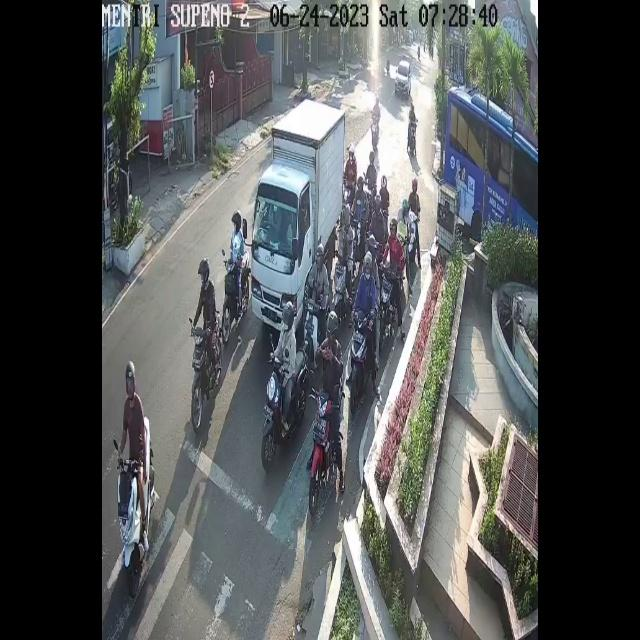bus: (118, 417, 156, 602), (263, 345, 306, 467), (190, 309, 221, 436), (308, 389, 338, 506), (350, 310, 373, 394), (377, 265, 399, 346), (222, 252, 243, 328), (302, 296, 321, 369), (332, 248, 348, 306), (406, 210, 418, 250), (370, 111, 381, 148), (408, 116, 418, 156), (353, 217, 365, 249), (344, 176, 354, 198), (366, 178, 377, 194)
car: (442, 88, 539, 242)
motorcycle: (395, 59, 410, 99)
truck: (249, 98, 342, 334)
